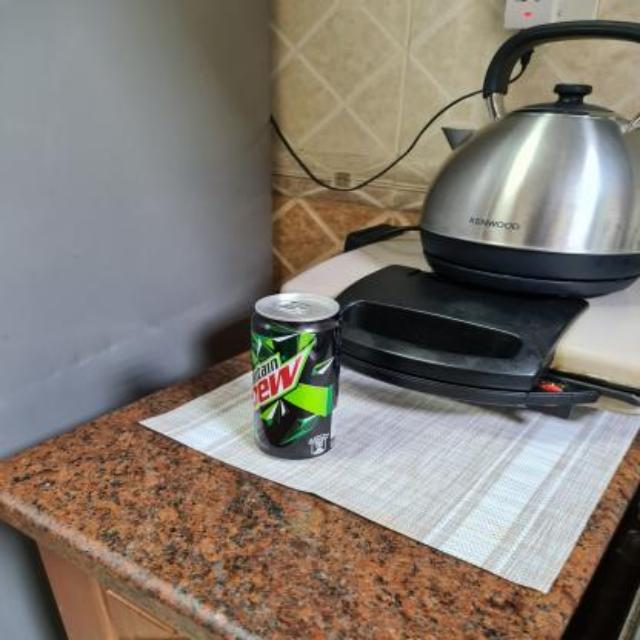metal: (251, 294, 338, 457)
